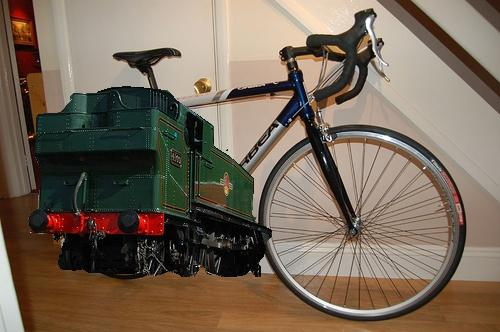tampered: (29, 87, 272, 277)
